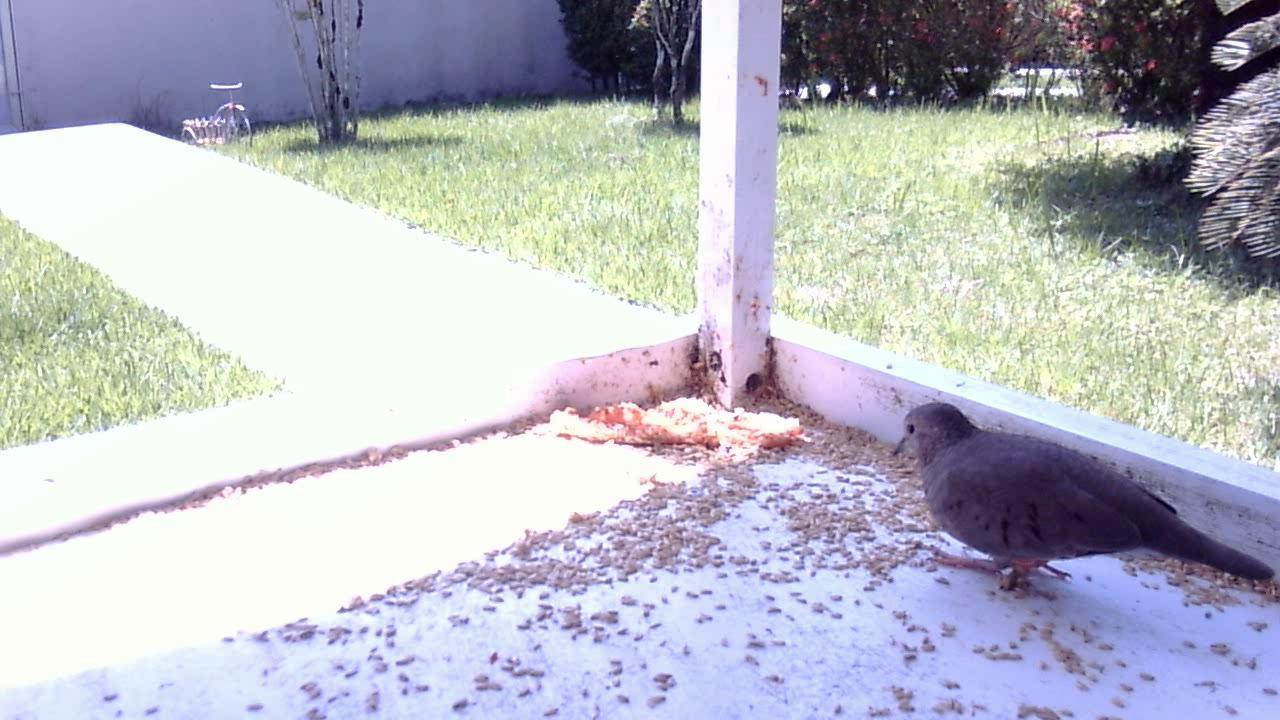rolinha: (885, 400, 1270, 612)
